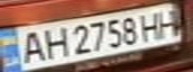2: (69, 20, 93, 56)
5: (106, 16, 127, 48)
7: (87, 18, 109, 53)
8: (118, 13, 142, 46)
A: (15, 28, 48, 64)
H: (36, 25, 72, 61), (136, 9, 166, 42), (154, 6, 184, 38)
